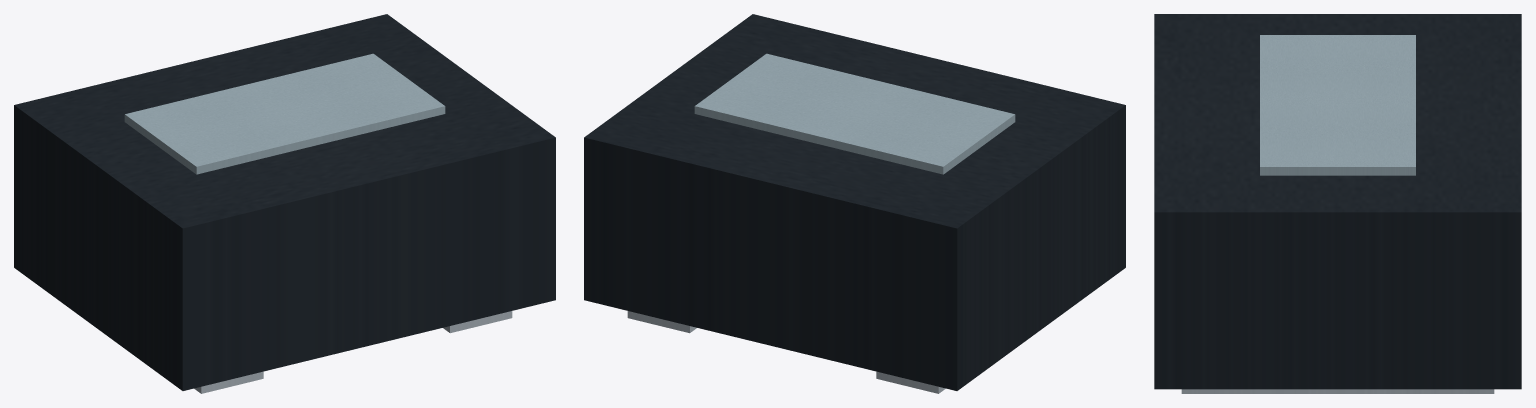
The picture shows the model from 3 angles, left to right: view 1: azimuth 30°, elevation 25°; view 2: azimuth 150°, elevation 25°; view 3: azimuth 270°, elevation 25°; orthographic projection. The views are drawn at different scales.
Visible parts, largest first — view 1: 233_L118_SN1; view 2: 233_L118_SN1; view 3: 233_L118_SN1.
Boxes of the visible parts, left/top/right/bottom form: 233_L118_SN1: left=14, top=14, right=555, bottom=393; 233_L118_SN1: left=584, top=14, right=1125, bottom=393; 233_L118_SN1: left=1154, top=14, right=1521, bottom=393.
Size of the model in its own units: 0.006 by 0.00297 by 0.0047.
Materials: 3 (3 with a texture image).
